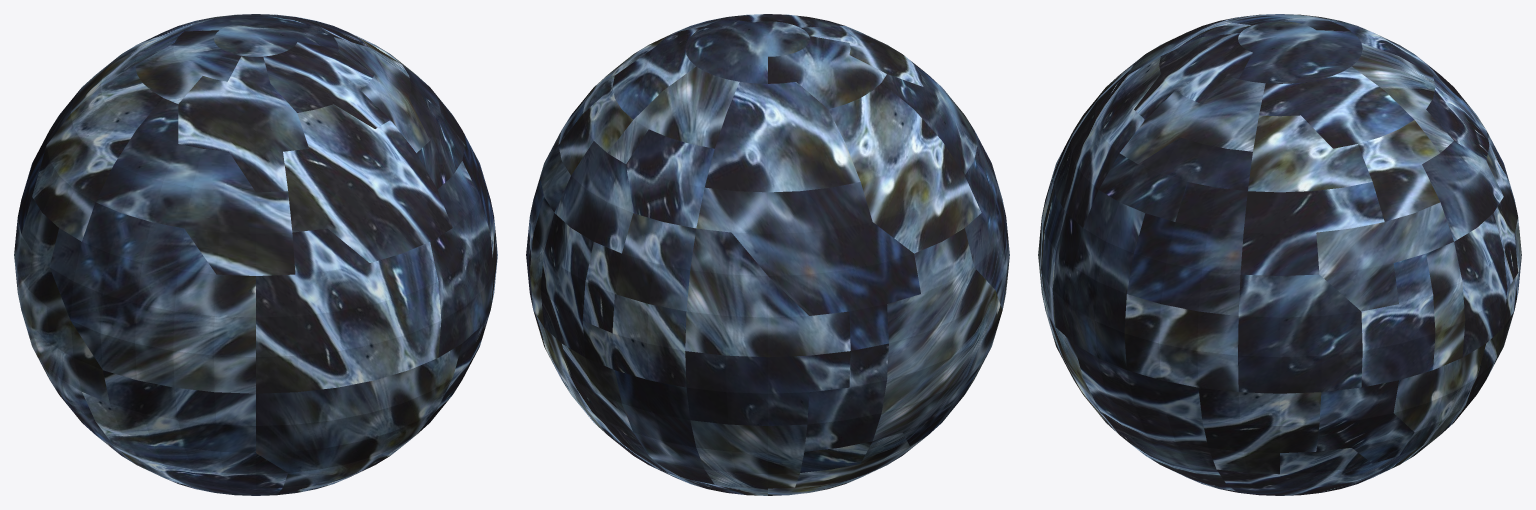
The picture shows the model from 3 angles, left to right: view 1: azimuth 30°, elevation 25°; view 2: azimuth 150°, elevation 25°; view 3: azimuth 270°, elevation 25°; orthographic projection.
Parts seen in each view (by area): view 1: Mesh_Mesh_head_geo.001_lambert2SG.001_3; view 2: Mesh_Mesh_head_geo.001_lambert2SG.001_3; view 3: Mesh_Mesh_head_geo.001_lambert2SG.001_3.
Boxes of the visible parts, x1,y1,x2,y2 form: Mesh_Mesh_head_geo.001_lambert2SG.001_3: (14,14,497,495); Mesh_Mesh_head_geo.001_lambert2SG.001_3: (526,14,1009,495); Mesh_Mesh_head_geo.001_lambert2SG.001_3: (1038,14,1521,495).
Bounding box in the file's own units: 40 × 40 × 40.
Materials: 1 (1 with a texture image).
